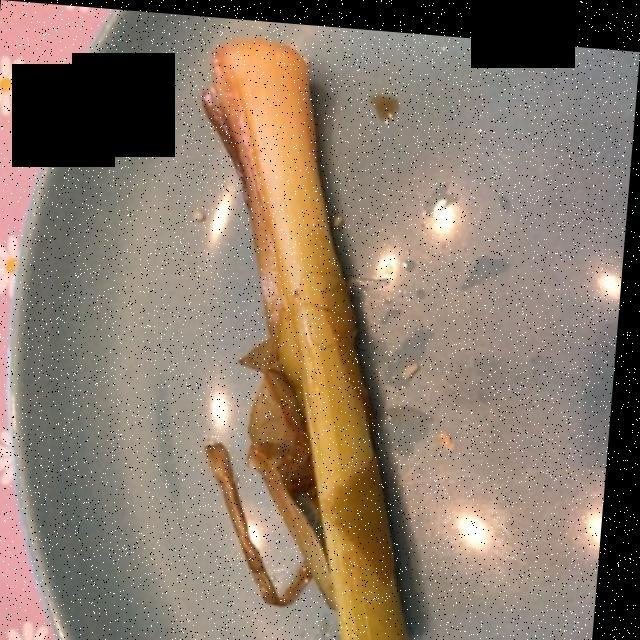leek: (203, 42, 409, 640)
